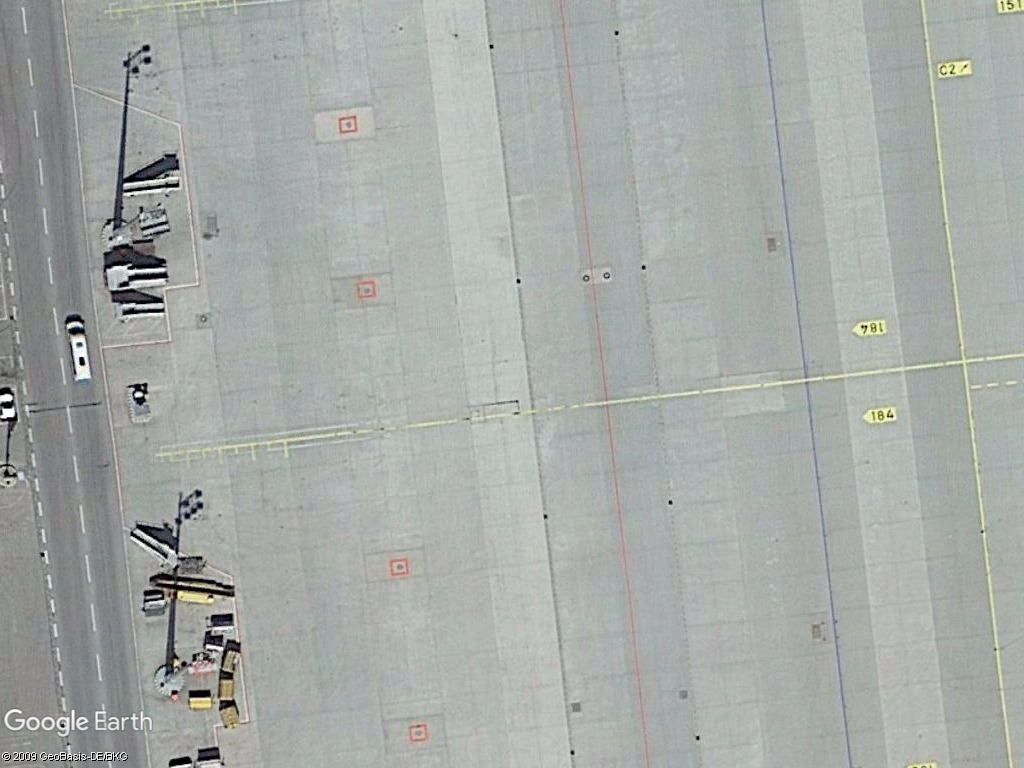pushbacktruck: (102, 257, 174, 295)
stairtruck: (124, 522, 183, 573), (118, 170, 183, 206)
van: (63, 316, 97, 390)
